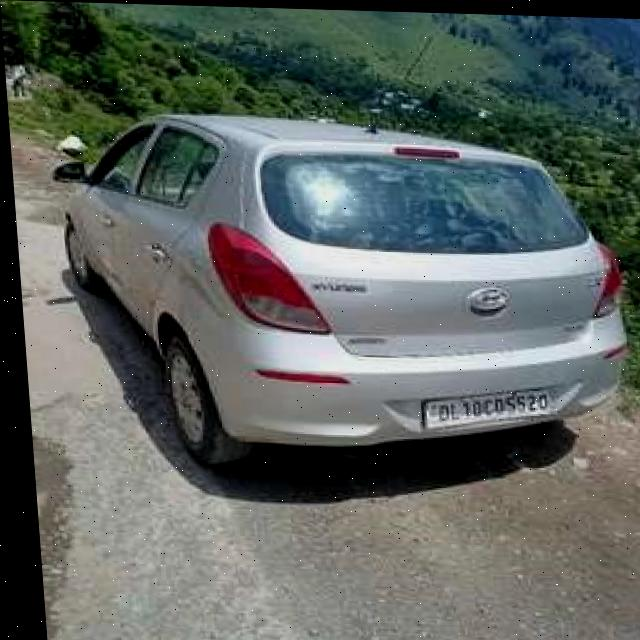plate: (411, 383, 548, 428)
